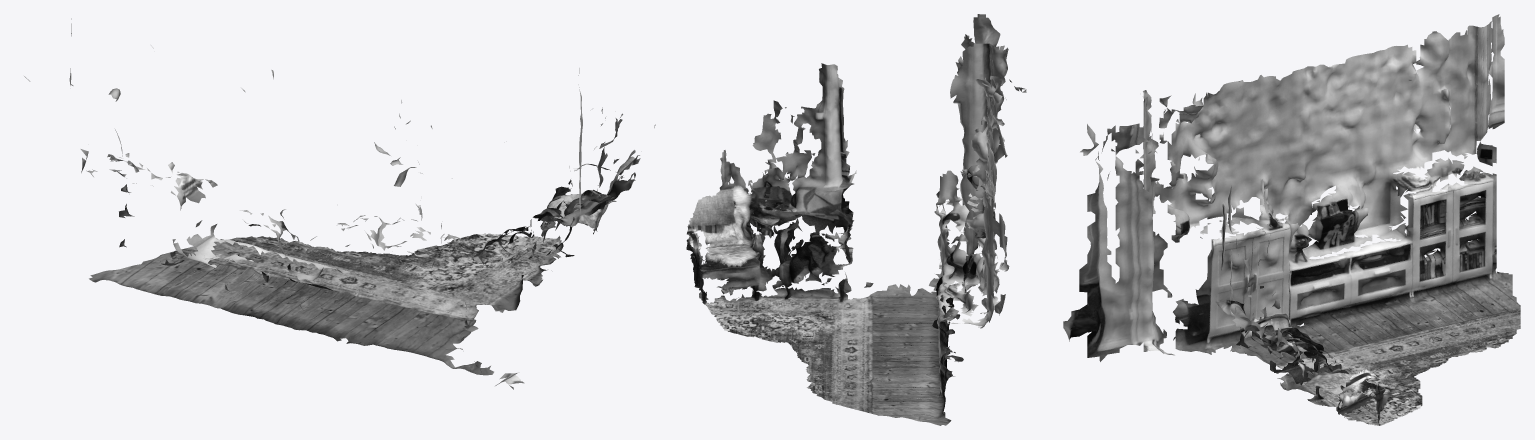
The model's file is 72262-Room-tex.glb.
3 views of the same model, side by side, from view 1: azimuth 30°, elevation 25°; view 2: azimuth 150°, elevation 25°; view 3: azimuth 270°, elevation 25° (orthographic). The views are drawn at different scales.
Visible parts, largest first — view 1: Node; view 2: Node; view 3: Node.
Boxes of the visible parts, x1=… form: Node: x1=24, y1=18, x2=655, y2=389; Node: x1=686, y1=14, x2=1026, y2=425; Node: x1=1063, y1=14, x2=1520, y2=425.
Size of the model in its own units: 4.37 by 2.52 by 4.17.
3 materials, 3 textured.
